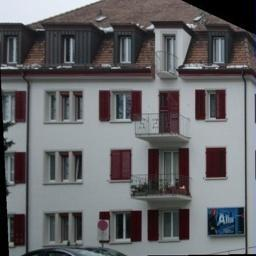building: (23, 0, 256, 256)
